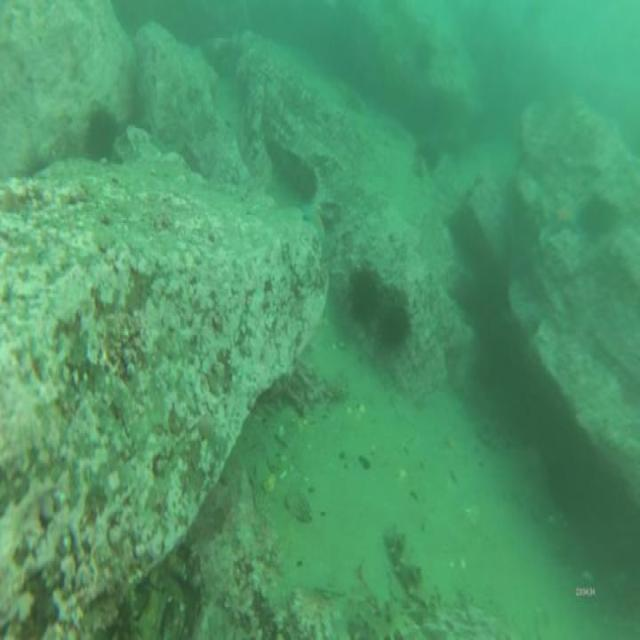echinus: (448, 208, 484, 258), (86, 109, 118, 163), (349, 269, 378, 322), (582, 194, 611, 237), (378, 305, 409, 340)
holothurian: (385, 523, 431, 610)
